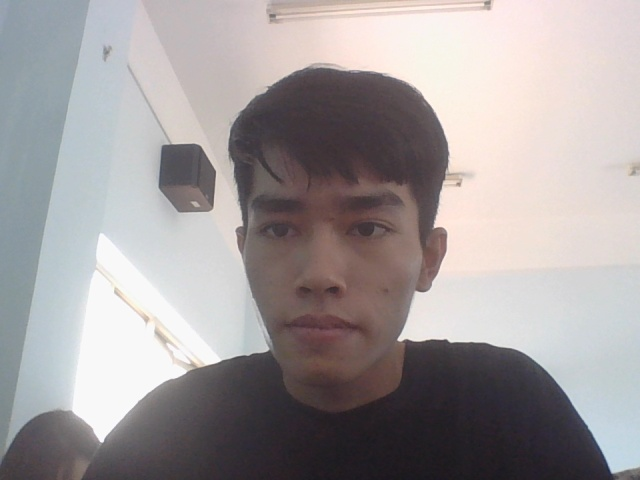real: (209, 43, 465, 406)
